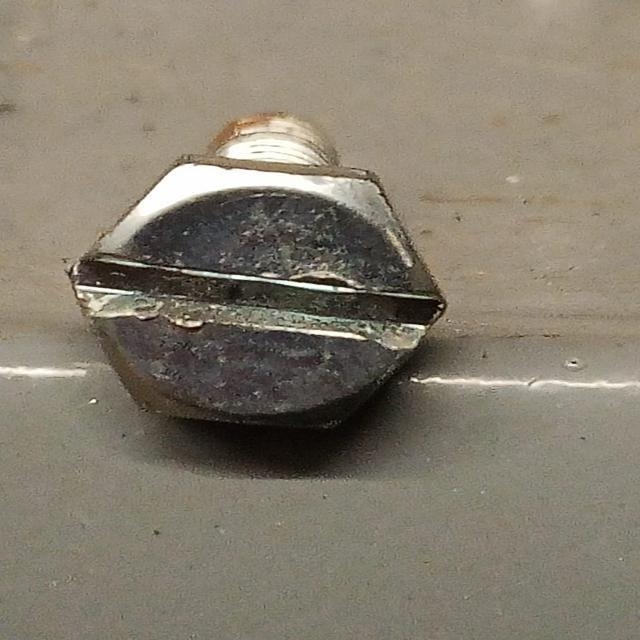duz: (66, 154, 447, 437)
